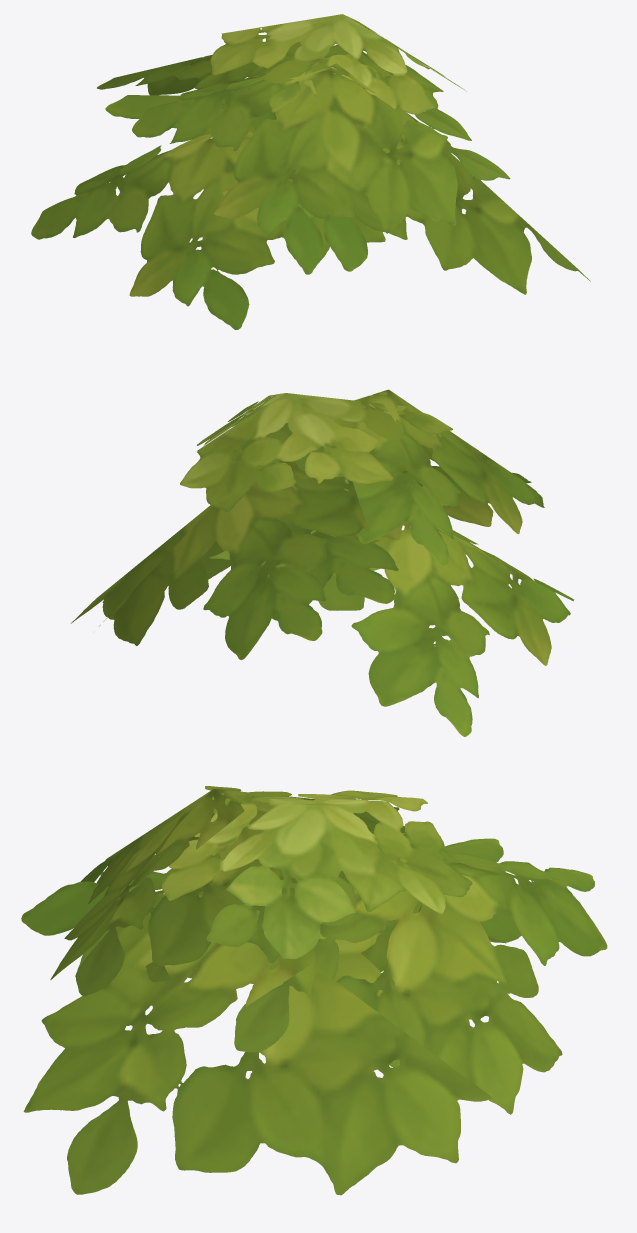
Rendered from Tyj_cdM_010.fbx.
3 renders of one model, top to bottom at view 1: azimuth 30°, elevation 25°; view 2: azimuth 150°, elevation 25°; view 3: azimuth 270°, elevation 25°, orthographic. The views are drawn at different scales.
Visible parts, largest first — view 1: Tyj_cdM_010; view 2: Tyj_cdM_010; view 3: Tyj_cdM_010.
Boxes of the visible parts, <box> form: Tyj_cdM_010: <box>31,14,590,329</box>; Tyj_cdM_010: <box>70,389,574,736</box>; Tyj_cdM_010: <box>21,786,607,1195</box>.
Bounding box in the file's own units: 393 × 231 × 408.
